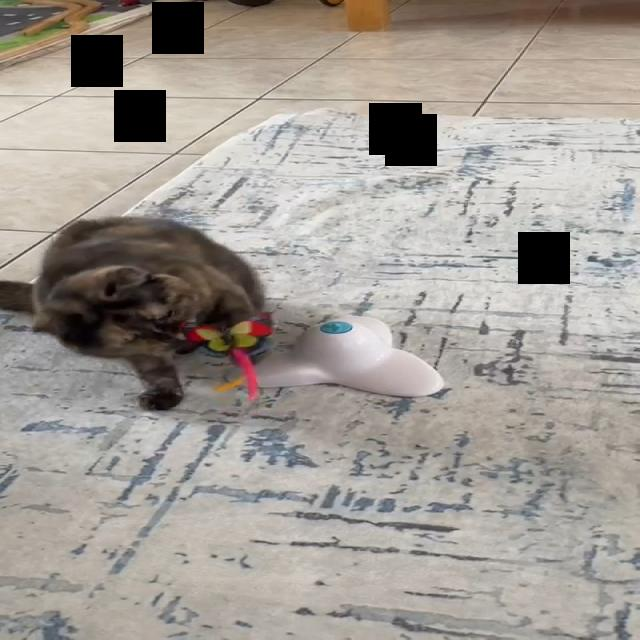authorized: (0, 214, 267, 410)
